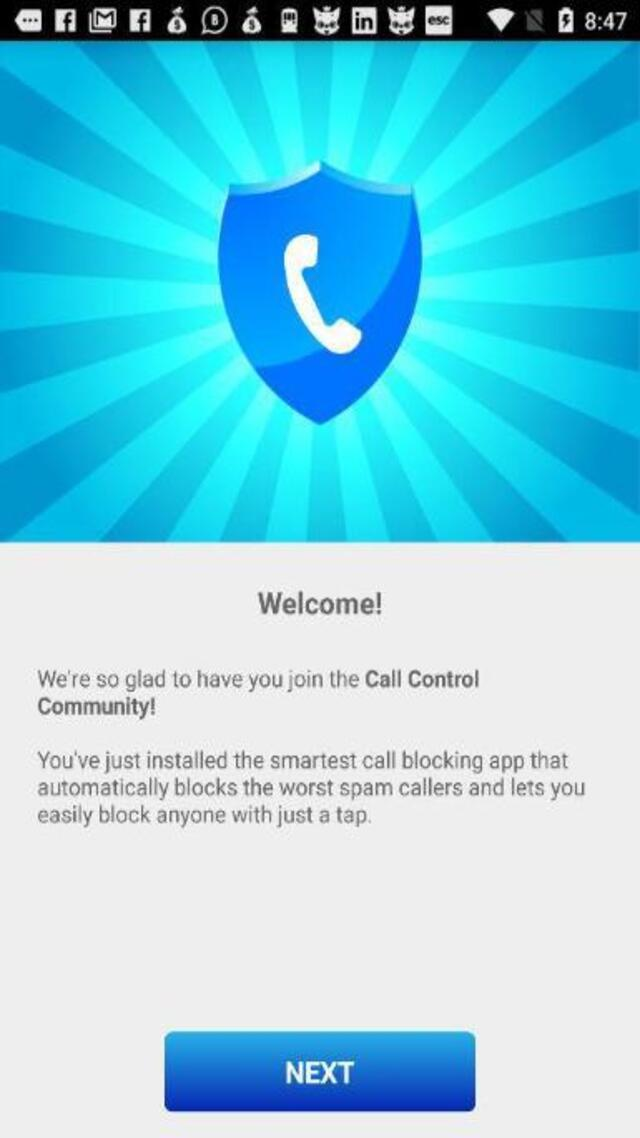Image: (0, 42, 638, 542)
Text: (32, 776, 590, 802), (31, 749, 571, 775), (36, 668, 486, 694), (32, 804, 377, 830), (36, 693, 164, 722), (256, 591, 382, 616), (278, 1056, 360, 1088)
TextButton: (163, 1028, 474, 1108)
